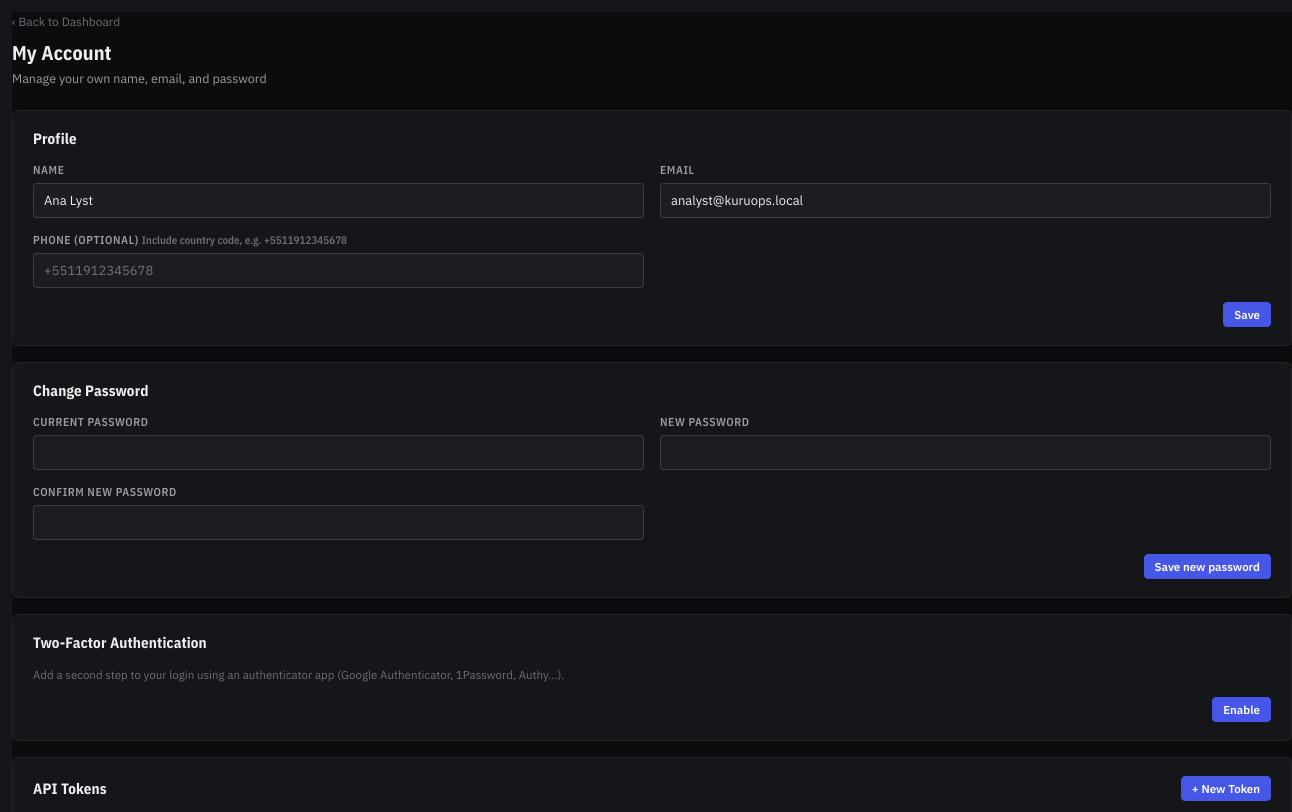
Test: ProfilePage › shows the server's error message when the profile update fails
Replace the text in the field labelled "Email" with "new@kuruops.local" at {"x": 966, "y": 200}, box 660,183 -> 1271,218
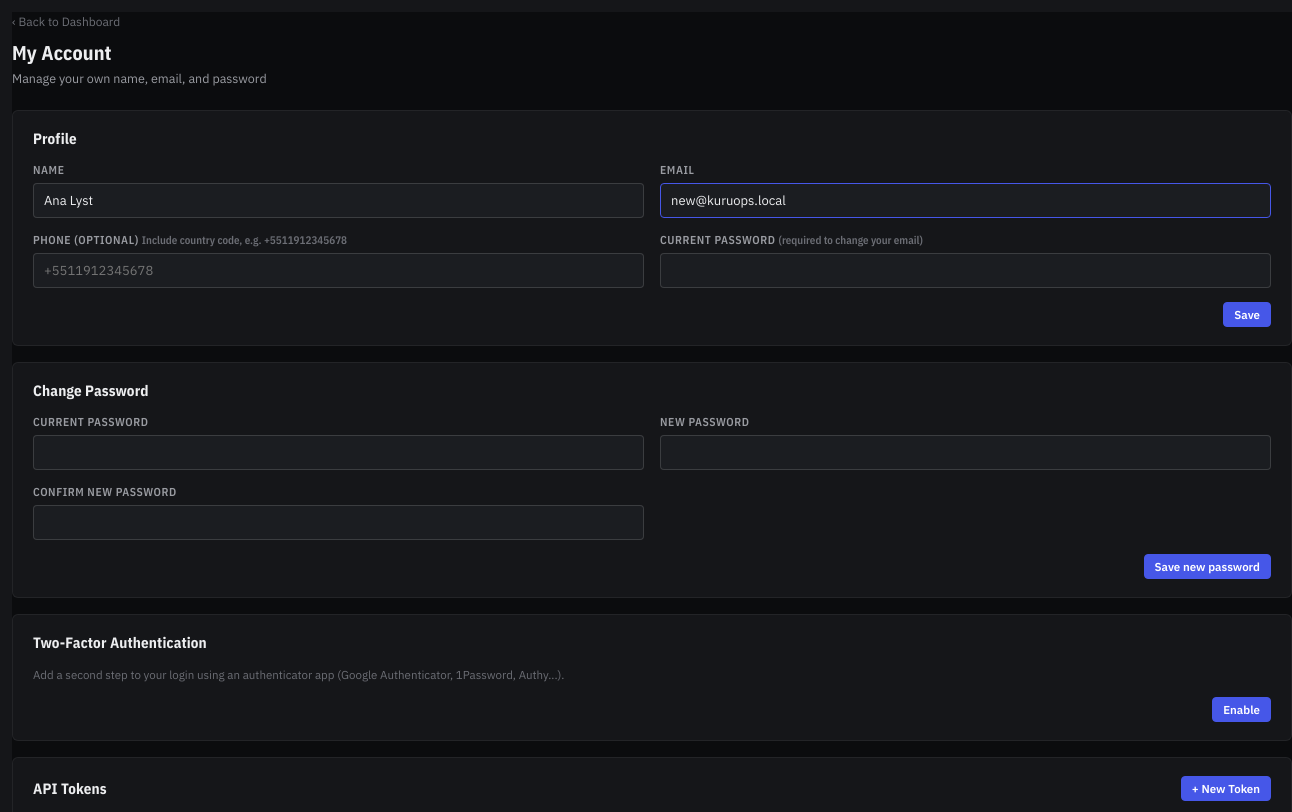
Type "wrong" into the password field labelled "Current password (required to change your email)".
click(966, 270); type("wrong")  # box 660,253 -> 1271,288
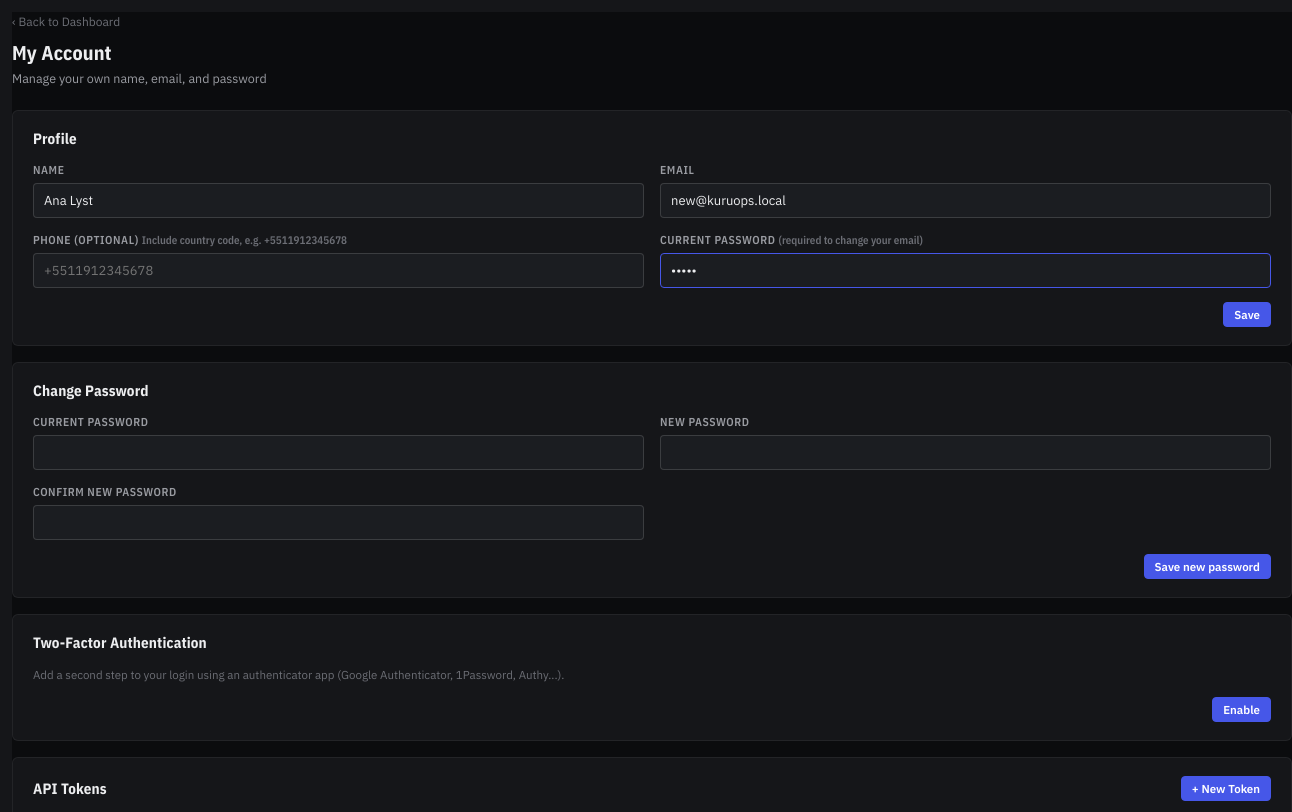
Click the button "Save".
click(1247, 314)  # box 1223,302 -> 1271,327
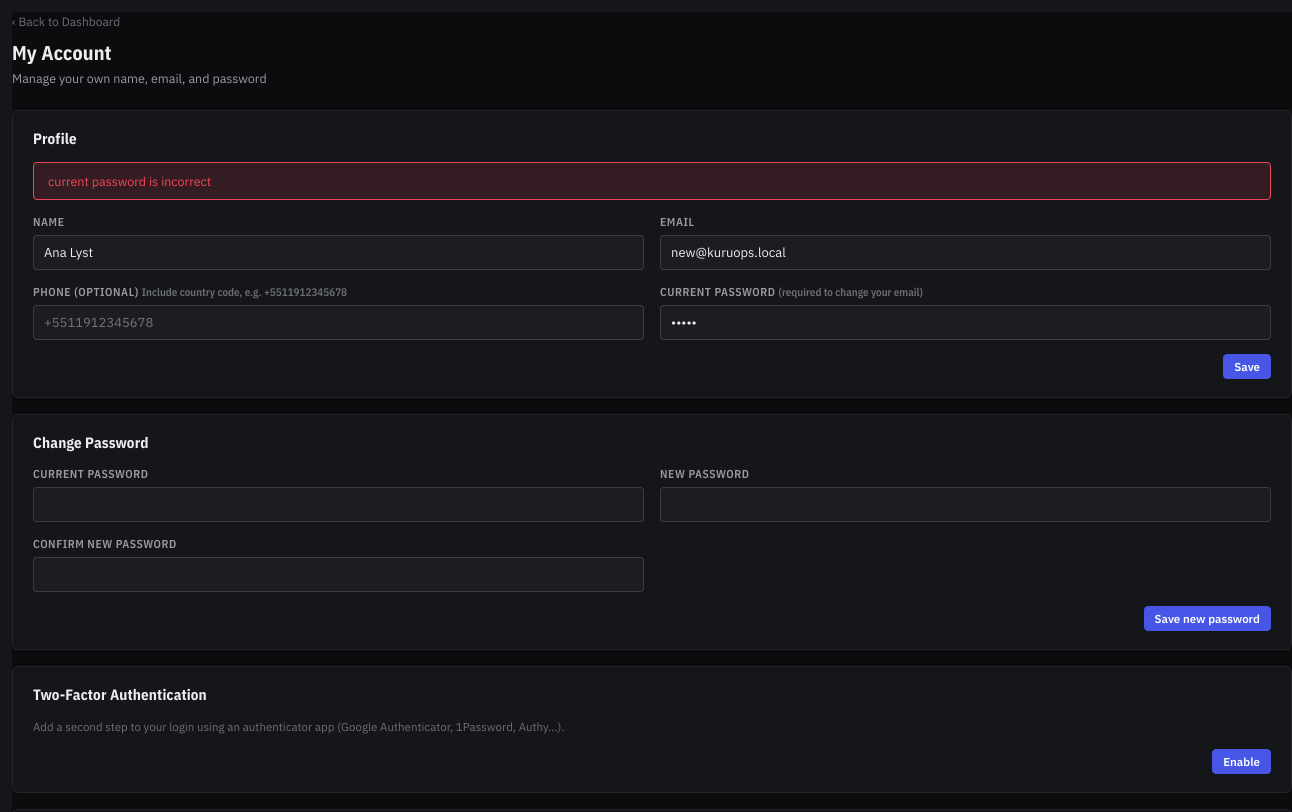
Now the text "current password is incorrect" is shown, box 33,162 -> 1271,200
